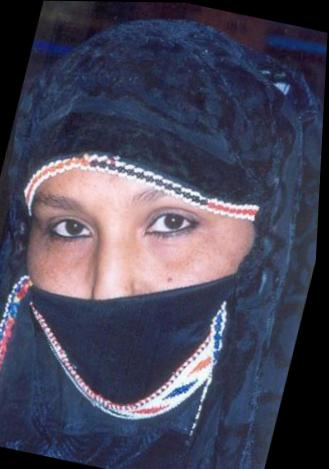WRONG: (1, 144, 266, 404)
